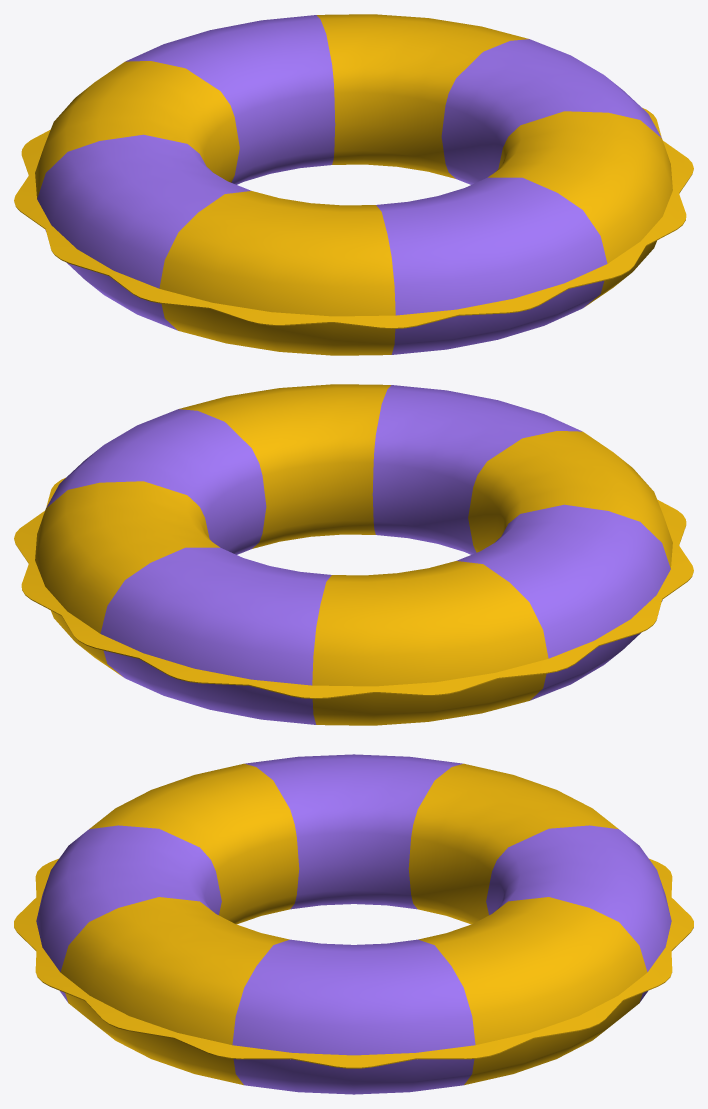
File: SwimmingRing.fbx
The picture shows the model from 3 angles, top to bottom: view 1: azimuth 30°, elevation 25°; view 2: azimuth 150°, elevation 25°; view 3: azimuth 270°, elevation 25°; orthographic projection.
Parts seen in each view (by area): view 1: SwimmingRing; view 2: SwimmingRing; view 3: SwimmingRing.
Boxes of the visible parts, x1=… form: SwimmingRing: x1=14, y1=14, x2=693, y2=355; SwimmingRing: x1=14, y1=384, x2=693, y2=725; SwimmingRing: x1=14, y1=754, x2=693, y2=1094.
Bounding box in the file's own units: 60 × 12 × 60.
